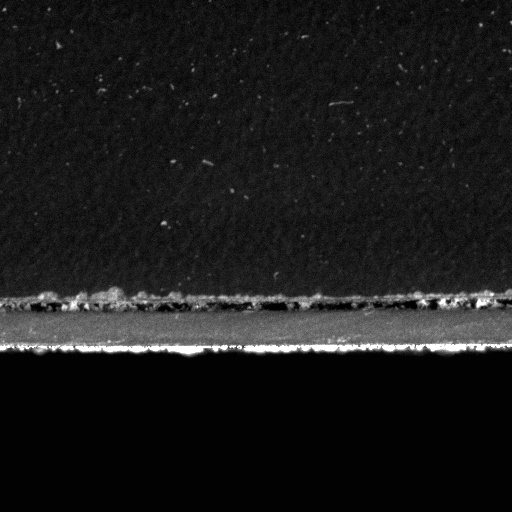jiaofeng: (151, 298, 296, 316), (310, 295, 418, 316), (26, 295, 145, 314)
